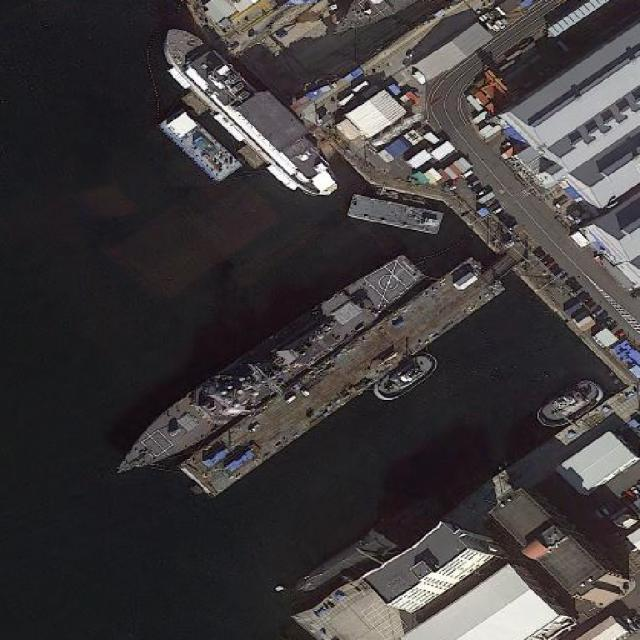Destroyer: (103, 246, 424, 493)
Hovercraft: (367, 342, 444, 408), (531, 370, 608, 434)
Other Ship: (151, 10, 348, 214)
Submarine: (292, 491, 447, 602)
